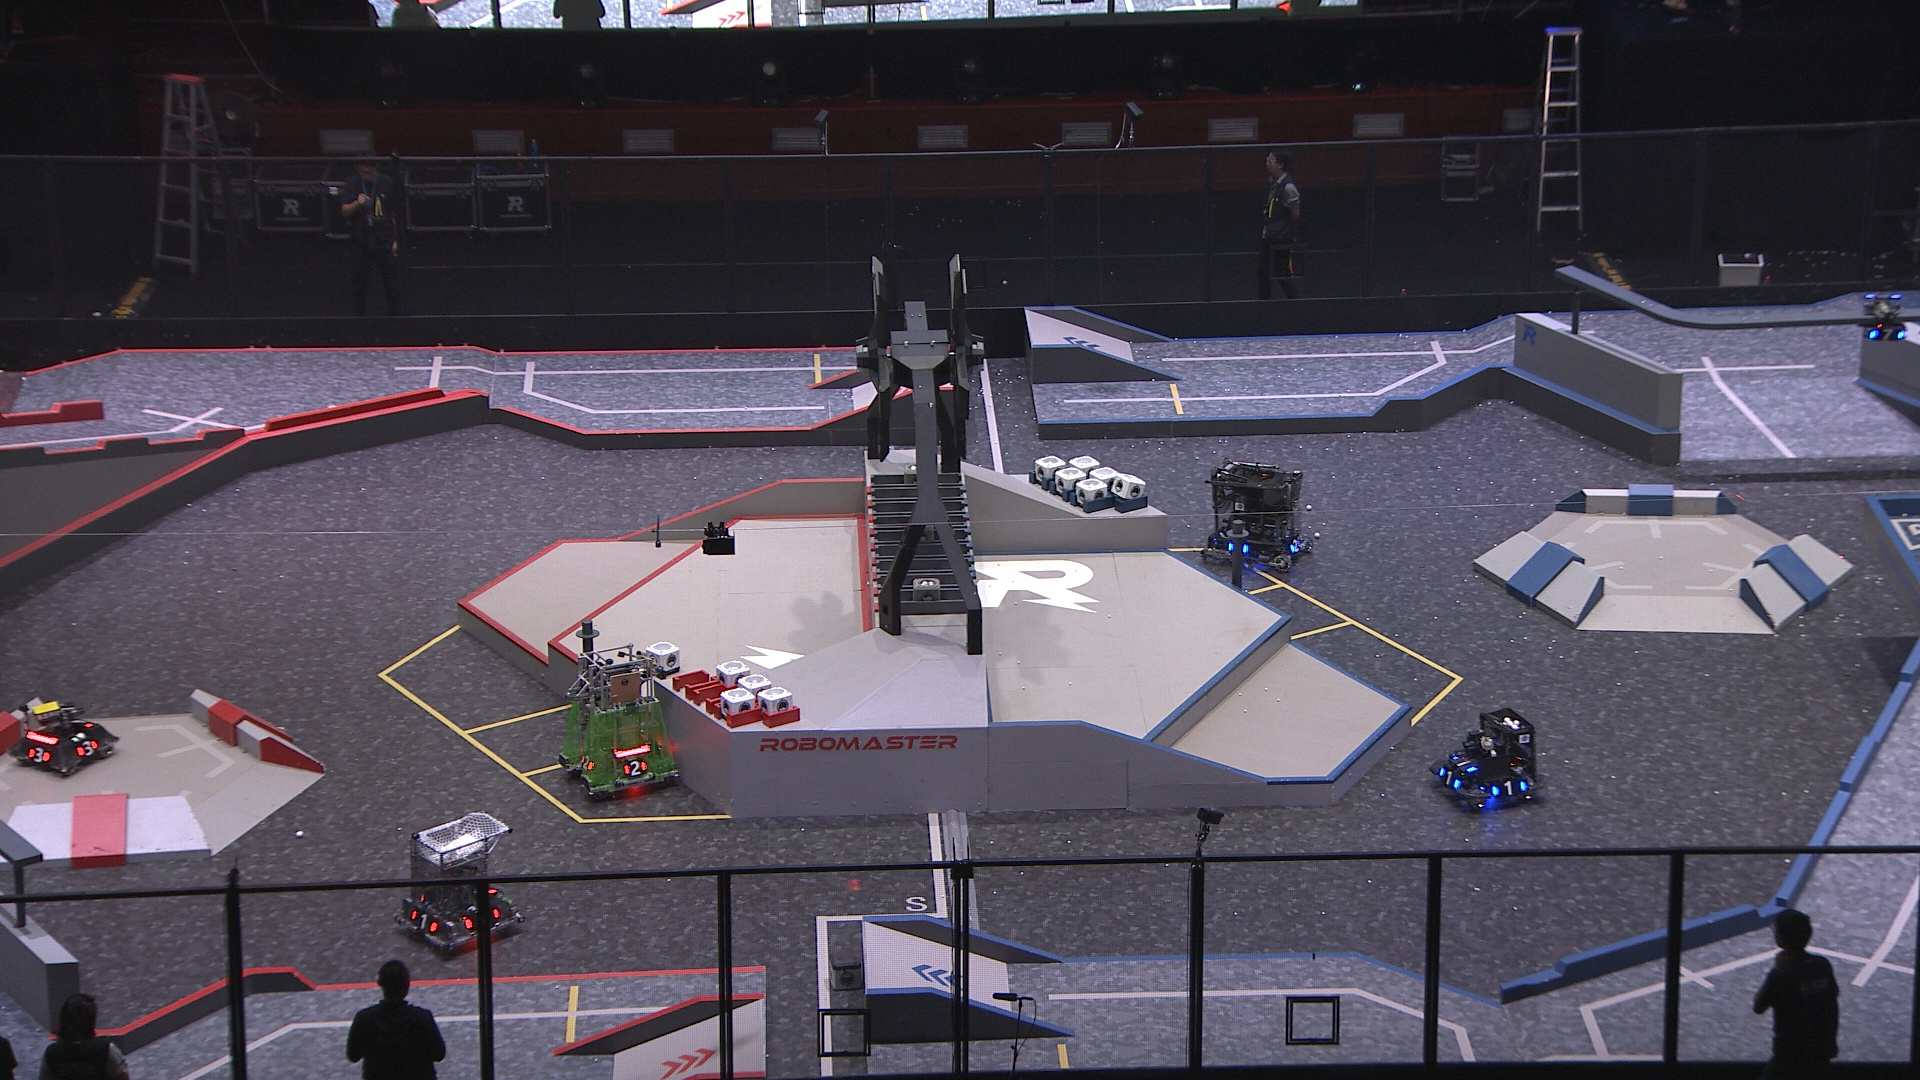armor: (1489, 778, 1528, 799), (1870, 324, 1907, 344), (411, 911, 440, 934), (1451, 756, 1481, 777), (1437, 765, 1462, 790), (76, 737, 100, 760), (622, 757, 647, 777), (26, 746, 51, 764), (579, 754, 597, 773), (1288, 538, 1304, 555)
car: (555, 642, 680, 800), (392, 811, 524, 955), (1199, 458, 1313, 572), (1427, 707, 1542, 808), (12, 700, 120, 782)
watcher: (1863, 291, 1908, 347)
